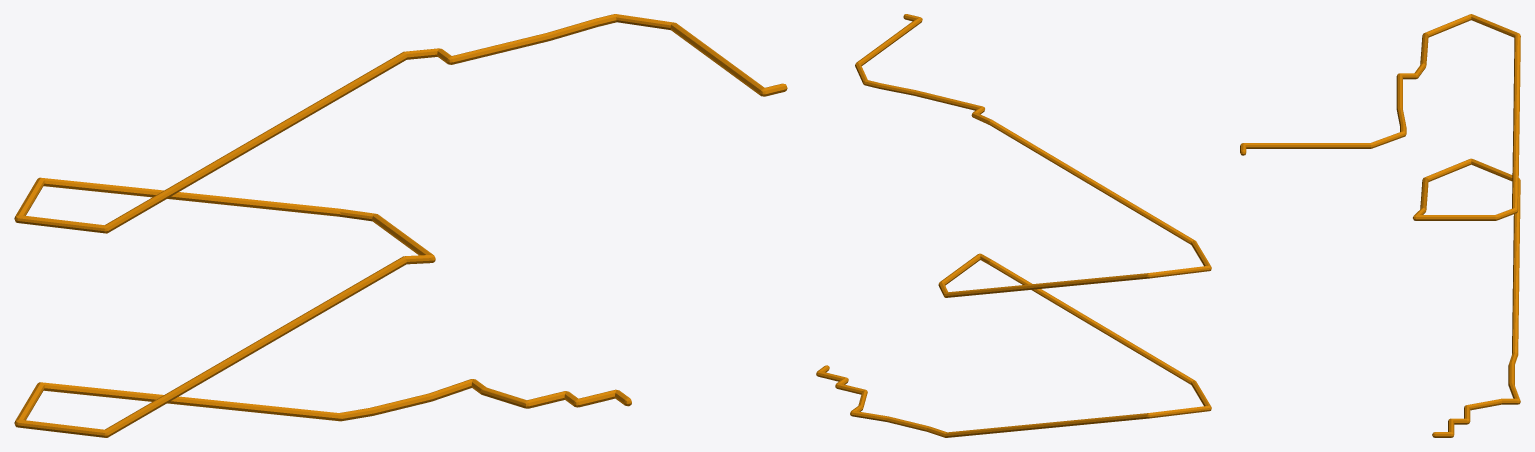
The picture shows the model from 3 angles, left to right: view 1: azimuth 30°, elevation 25°; view 2: azimuth 150°, elevation 25°; view 3: azimuth 270°, elevation 25°; orthographic projection. The views are drawn at different scales.
Bounding box in the file's own units: 1563 × 1020 × 880.
